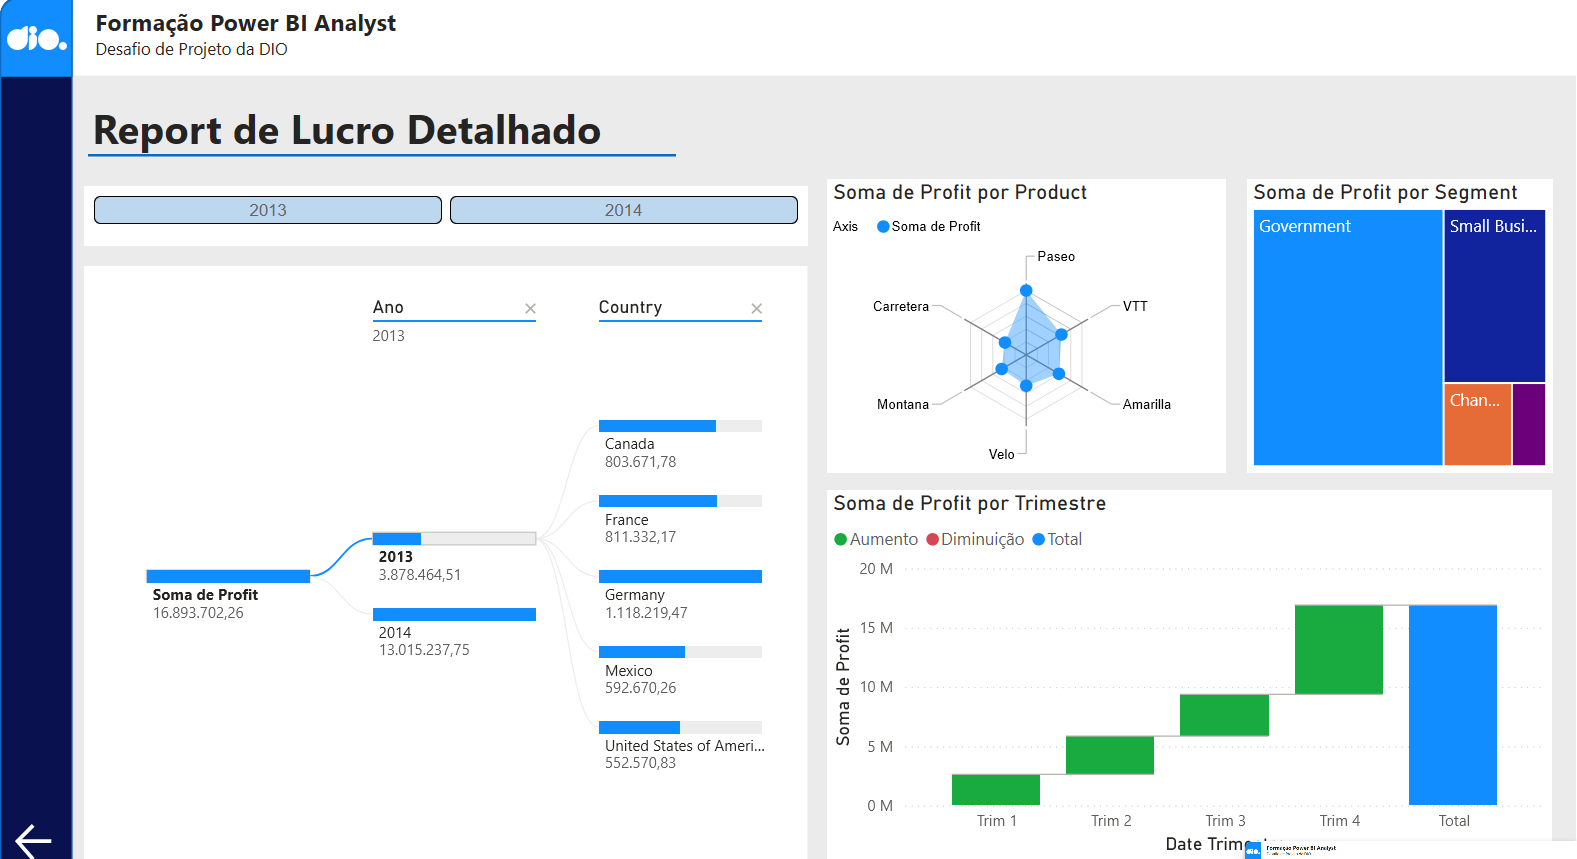

What the dashboard file says about the page in this screenshot:
{"tool":"powerbi","page":{"name":"Report Lucro","canvas":[1280,720],"ordinal":1},"visuals":[{"type":"shape","box":[42.6,20.7,1225.3,699.3],"z":0},{"type":"shape","box":[83,127.3,468.4,37.1],"z":0,"group":"g1"},{"type":"textbox","box":[81.2,97.1,432.9,52.1],"z":1000,"group":"g1"},{"type":"shape","box":[12.4,20.2,57.7,699.8],"z":1000},{"type":"shape","box":[12.4,20.6,57.7,63.2],"z":2000},{"type":"image","box":[13.7,33,57.7,39.9],"z":3000},{"type":"shape","title":"Fundo do Título","box":[71.5,20.6,1198.9,61.9],"z":4000},{"type":"textbox","title":"Título do report","box":[83.9,22,378.1,63.2],"z":5000},{"type":"shape","box":[79.7,233.7,576.1,473],"z":6000},{"type":"decompositionTreeVisual","fields":{"Analyze":["Sum(financials.Profit)"],"ExplainBy":["financials.Date.Variation.Hierarquia de datas.Ano","financials.Country"]},"box":[99.8,242.2,536.3,456.5],"z":7000},{"type":"waterfallChart","fields":{"Category":["financials.Date.Variation.Hierarquia de datas.Trimestre"],"Y":["Sum(financials.Profit)"]},"box":[670.9,412.5,577.4,294.2],"z":8000},{"type":"ChicletSlicer1448559807354","fields":{"Category":["financials.Date.Variation.Hierarquia de datas.Ano"]},"box":[79.7,170.5,576.1,48.1],"z":9000},{"type":"RadarChart1446119667547","fields":{"Category":["financials.Product"],"Y":["Sum(financials.Profit)"]},"box":[670.9,165,317.6,233.7],"z":10000},{"type":"treemap","fields":{"Values":["Sum(financials.Profit)"],"Group":["financials.Segment"]},"box":[1005,165,243.4,233.7],"z":11000},{"type":"group","id":"g1","title":"Sales report","box":[81.2,97.1,470.2,67.3],"z":12000},{"type":"actionButton","box":[20.7,673.6,38.8,38.8],"z":14001}]}

Visuals, with their boxes on the page's 1280x720 design canvas (x1, y1, x2, y2). These are canvas units, not pixel positions in the 1577x859 screenshot, which may show the page scaled, cropped or inside an application window:
shape: x1=43 y1=21 x2=1268 y2=720
shape: x1=83 y1=127 x2=551 y2=164
textbox: x1=81 y1=97 x2=514 y2=149
shape: x1=12 y1=20 x2=70 y2=720
shape: x1=12 y1=21 x2=70 y2=84
image: x1=14 y1=33 x2=71 y2=73
"Fundo do Título" shape: x1=72 y1=21 x2=1270 y2=82
"Título do report" textbox: x1=84 y1=22 x2=462 y2=85
shape: x1=80 y1=234 x2=656 y2=707
decompositionTreeVisual - Sum(financials.Profit) x financials.Date.Variation.Hierarquia de datas.Ano: x1=100 y1=242 x2=636 y2=699
waterfallChart - financials.Date.Variation.Hierarquia de datas.Trimestre x Sum(financials.Profit): x1=671 y1=412 x2=1248 y2=707
ChicletSlicer1448559807354 - financials.Date.Variation.Hierarquia de datas.Ano: x1=80 y1=170 x2=656 y2=219
RadarChart1446119667547 - financials.Product x Sum(financials.Profit): x1=671 y1=165 x2=988 y2=399
treemap - Sum(financials.Profit) x financials.Segment: x1=1005 y1=165 x2=1248 y2=399
"Sales report" group: x1=81 y1=97 x2=551 y2=164
actionButton: x1=21 y1=674 x2=60 y2=712
